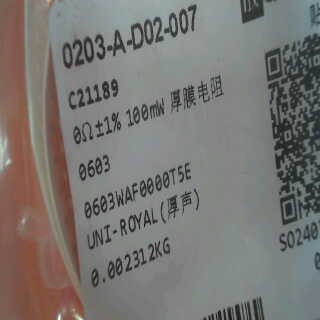0R: (72, 111, 120, 186)
